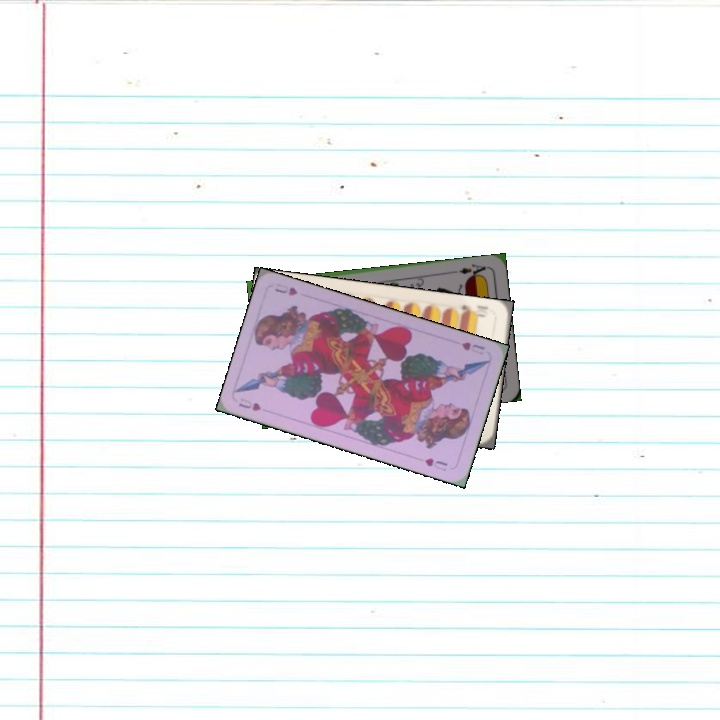E10: (457, 301, 488, 320)
EA: (450, 260, 490, 280)
HU: (234, 394, 264, 414), (458, 338, 487, 353)
